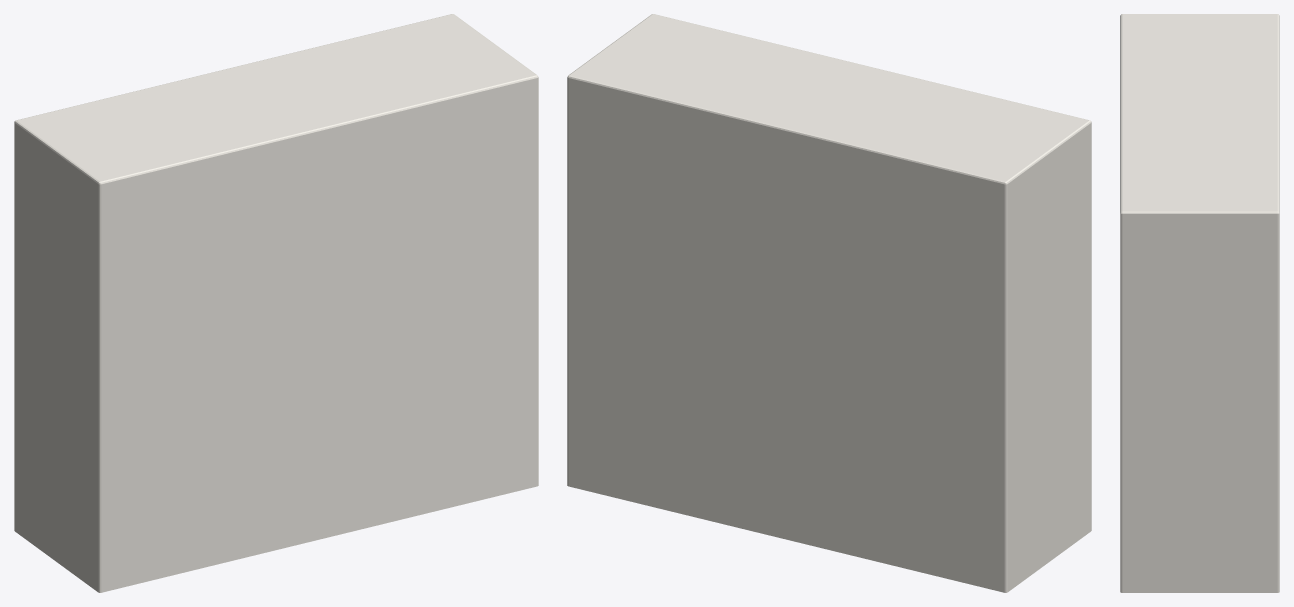
File: Aur_DisplayStand_ShortWide.gltf
The picture shows the model from 3 angles, left to right: view 1: azimuth 30°, elevation 25°; view 2: azimuth 150°, elevation 25°; view 3: azimuth 270°, elevation 25°; orthographic projection. The views are drawn at different scales.
Parts seen in each view (by area): view 1: Aur_DisplayStand_ShortWide.001; view 2: Aur_DisplayStand_ShortWide.001; view 3: Aur_DisplayStand_ShortWide.001.
Boxes of the visible parts, x1,y1,x2,y2 form: Aur_DisplayStand_ShortWide.001: [14, 14, 538, 592]; Aur_DisplayStand_ShortWide.001: [567, 14, 1091, 592]; Aur_DisplayStand_ShortWide.001: [1120, 14, 1279, 592].
Size of what is drawn, in the model's own units: 0.8977 by 0.8 by 0.3033.
Materials: 1 (1 with a texture image).
